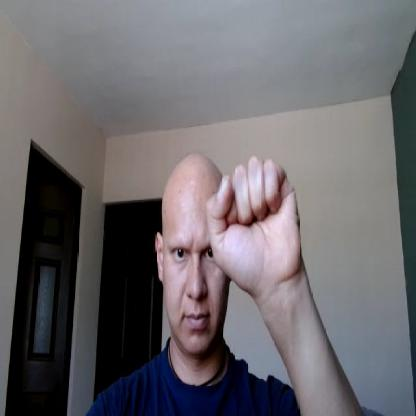S: (205, 155, 304, 289)
